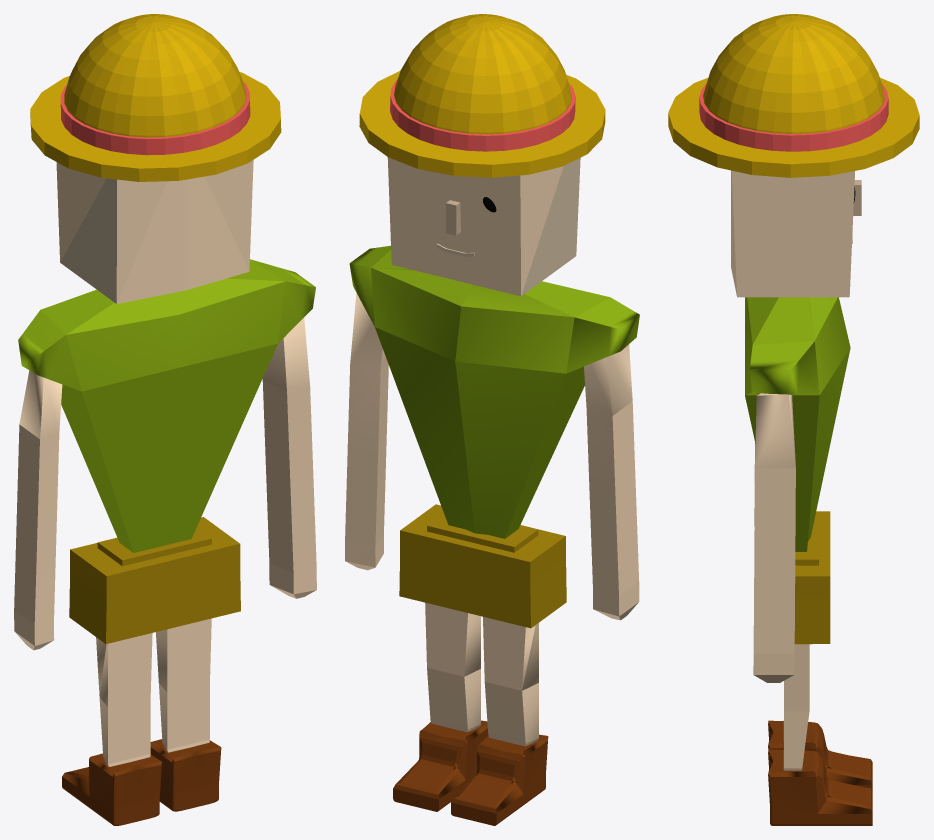
Rendered from fermer.glb.
3 renders of one model, left to right at view 1: azimuth 30°, elevation 25°; view 2: azimuth 150°, elevation 25°; view 3: azimuth 270°, elevation 25°, orthographic. The views are drawn at different scales.
Parts seen in each view (by area): view 1: Cube.001; view 2: Cube.001; view 3: Cube.001.
Boxes of the visible parts, x1,y1,x2,y2 form: Cube.001: (14, 14, 316, 825); Cube.001: (345, 14, 639, 825); Cube.001: (668, 14, 919, 825).
Bounding box in the file's own units: 4.39 × 11.67 × 3.41.
